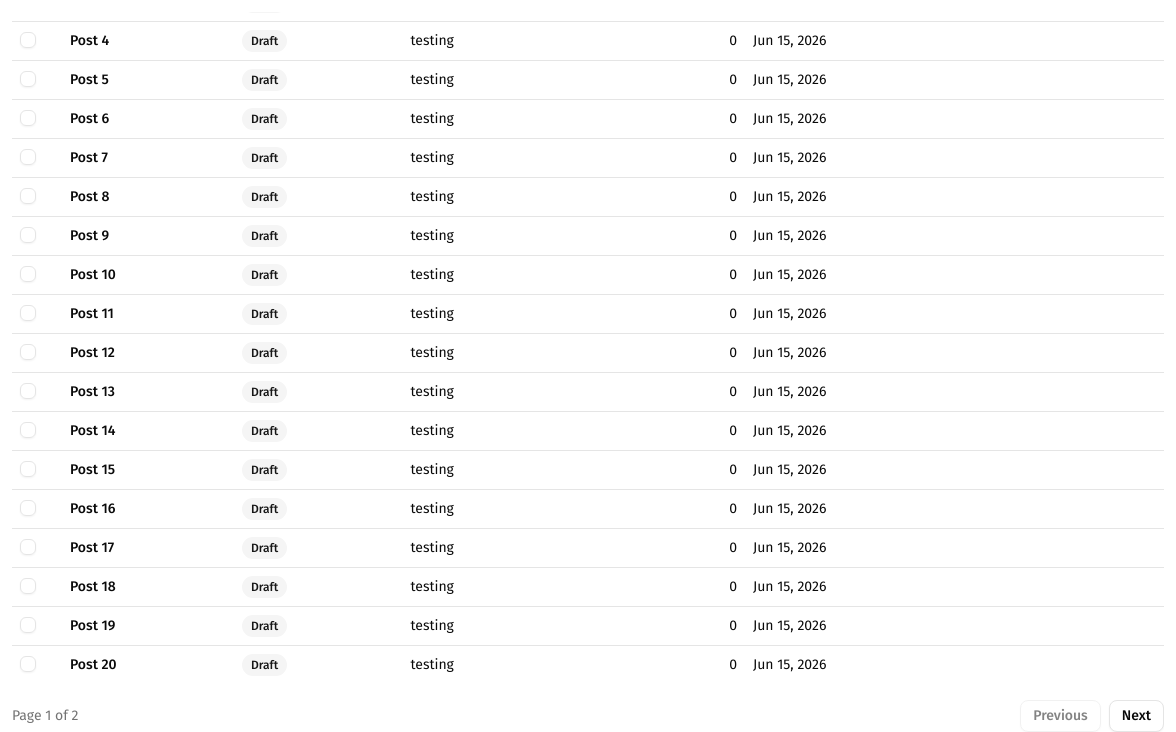
Test case: BlogPostList › Pagination › should navigate to next page
Step 1. Click the button "Next" → (1136, 716), box [1109,700,1164,731]
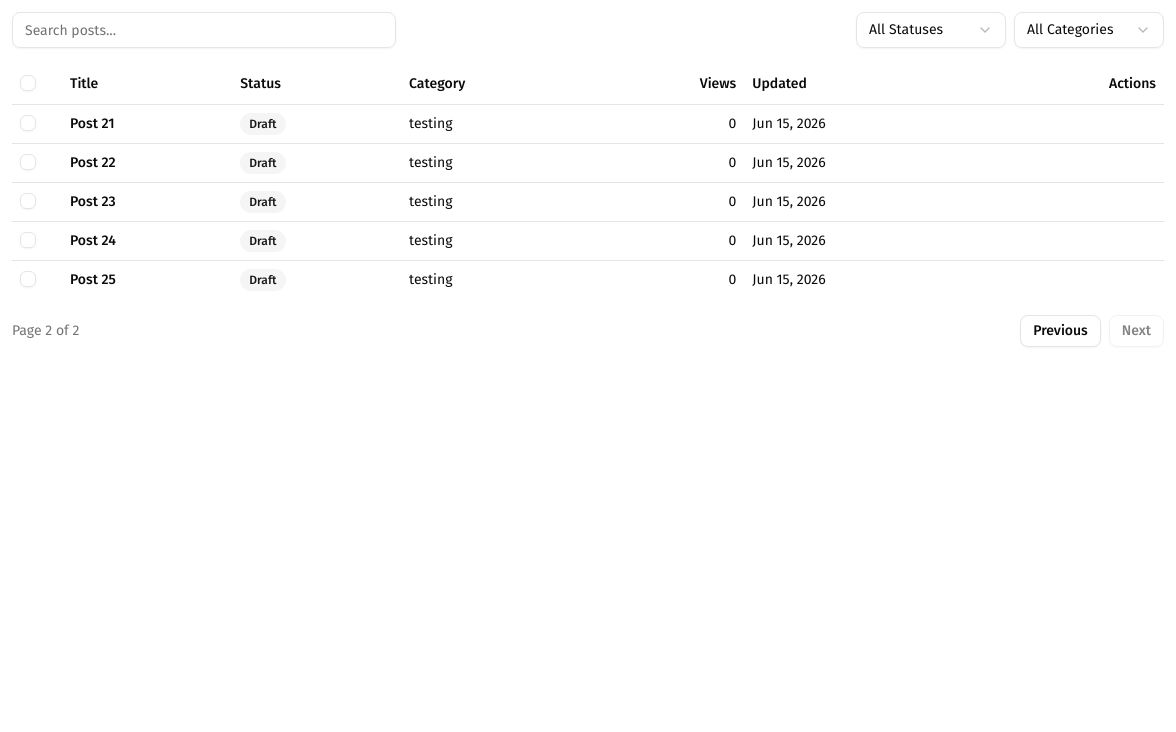
Expected: the text "Post 1" is gone
Expected: the text "Post 21" is shown, [62,104,232,143]
Expected: the text "Post 25" is shown, [62,260,232,298]
